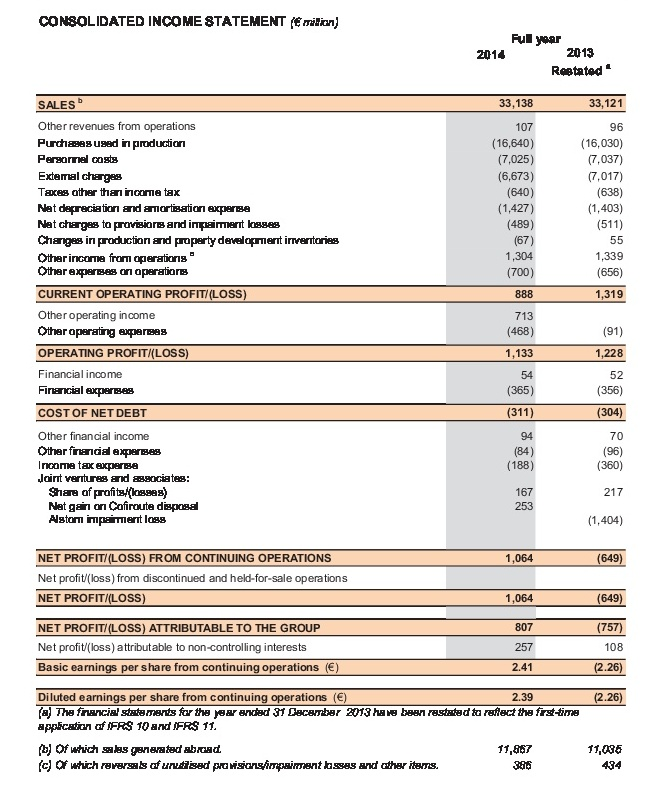table: (0, 0, 650, 786)
